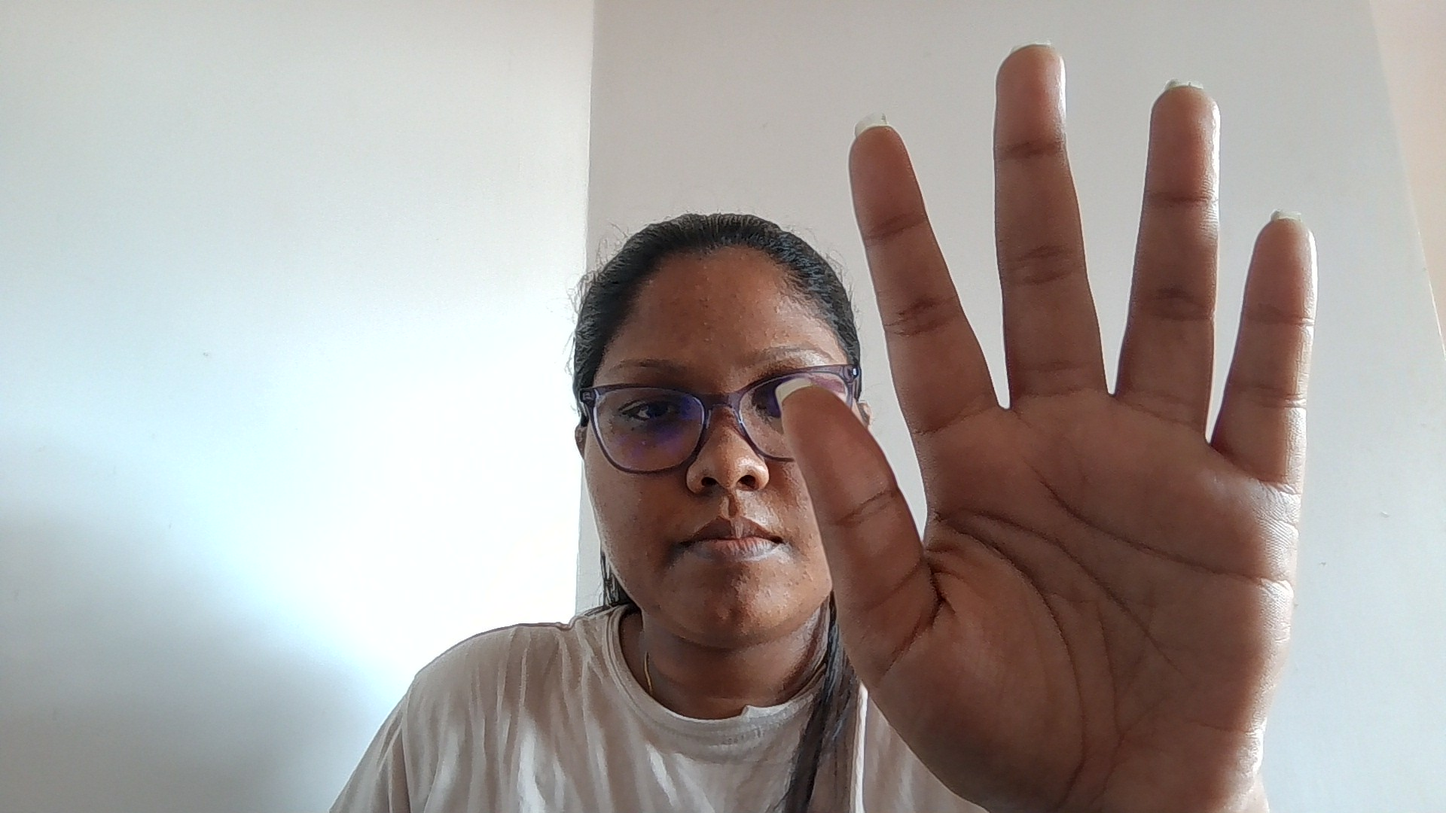Hello: (770, 2, 1446, 813)
